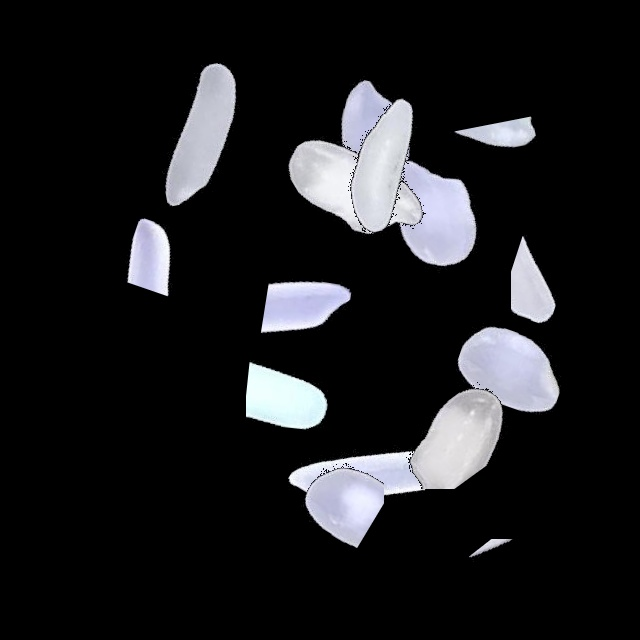Broken: (225, 362, 475, 533), (304, 335, 554, 489), (241, 358, 384, 608), (511, 153, 637, 403), (246, 264, 360, 514), (195, 261, 445, 373), (440, 52, 545, 302), (116, 118, 216, 368), (383, 539, 633, 637)
Full: (251, 14, 501, 264), (387, 243, 637, 493), (76, 9, 326, 259), (305, 86, 555, 336), (226, 61, 476, 311), (260, 39, 510, 289)
